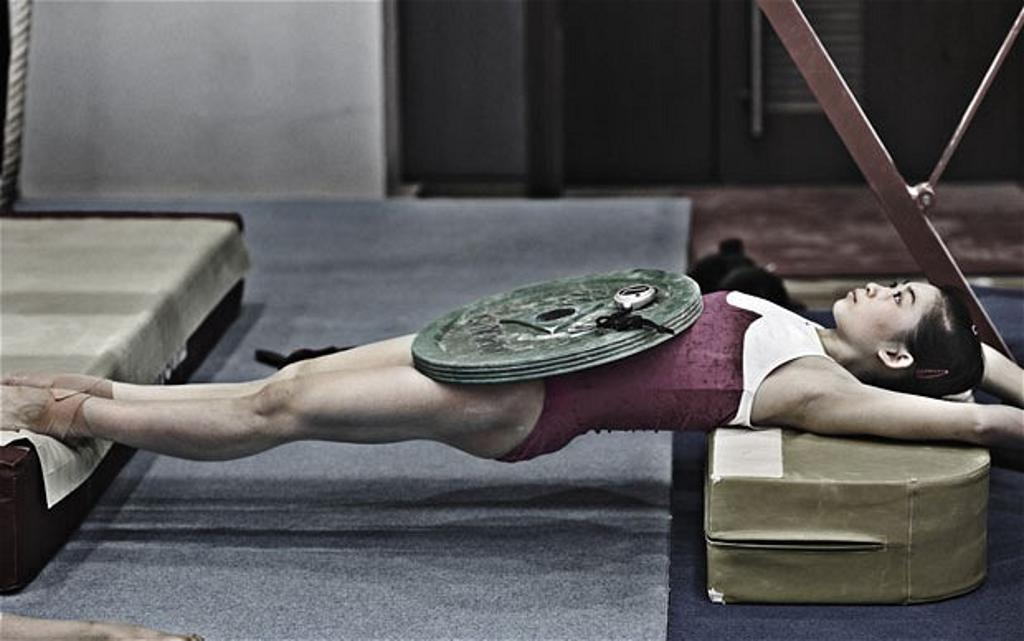face: (835, 283, 969, 361)
